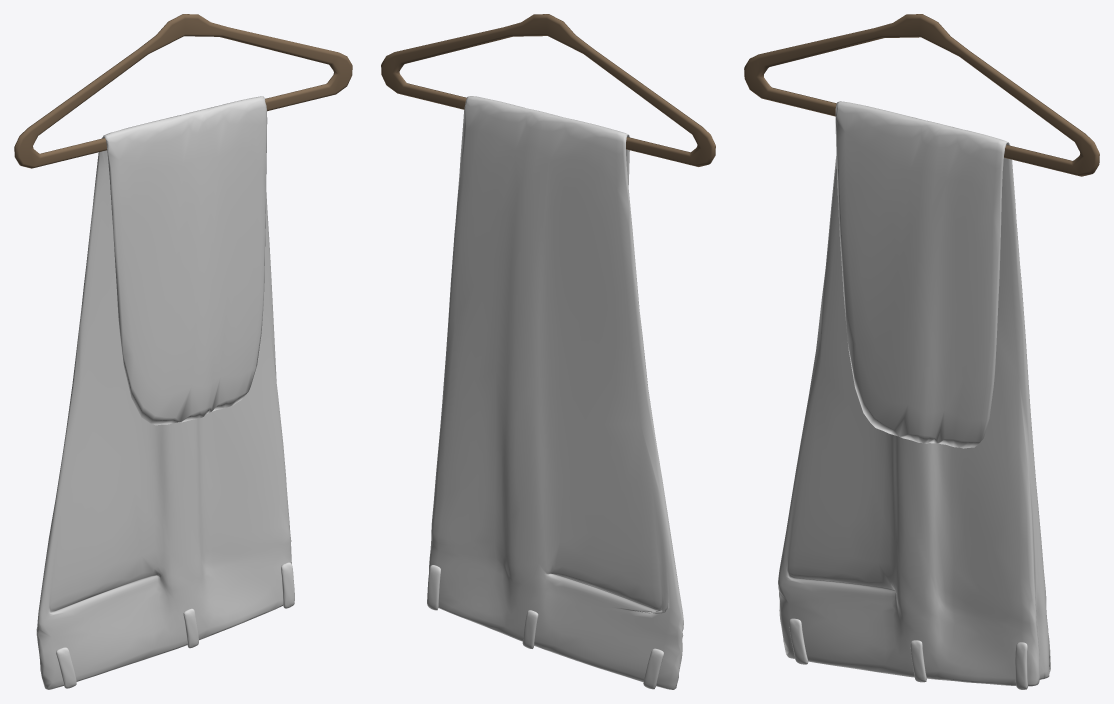
Rendered from trousers.glb.
The picture shows the model from 3 angles, left to right: view 1: azimuth 30°, elevation 25°; view 2: azimuth 150°, elevation 25°; view 3: azimuth 330°, elevation 25°; orthographic projection. The views are drawn at different scales.
Visible parts, largest first — view 1: GarmentFabric, HangerShoulders; view 2: GarmentFabric, HangerShoulders; view 3: GarmentFabric, HangerShoulders.
Part boxes in pixels (bbox=[...]): GarmentFabric: bbox=[36, 96, 294, 689]; HangerShoulders: bbox=[14, 14, 352, 168]; GarmentFabric: bbox=[427, 96, 683, 689]; HangerShoulders: bbox=[381, 14, 715, 166]; GarmentFabric: bbox=[778, 101, 1050, 689]; HangerShoulders: bbox=[744, 14, 1099, 176].
Bounding box in the file's own units: 1.6 × 2.93 × 0.2324.
